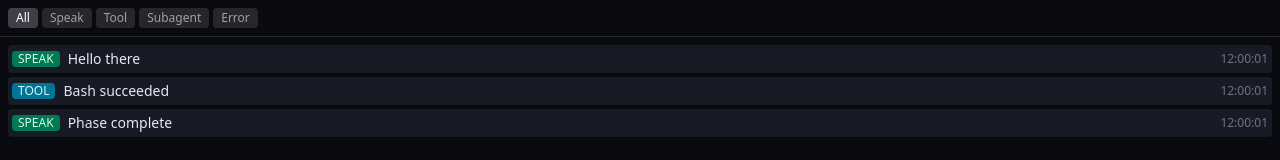
Test case: LiveTicker › filters to only speak events
This screenshot has width=1280, height=160.
Click the button "Speak" at (67, 18), box [42,8,92,28]
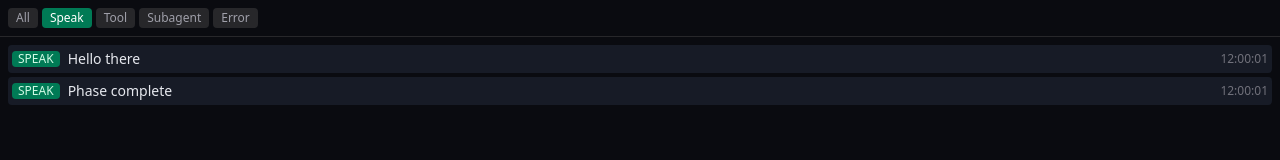
Check: the text "Hello there" is shown, box [68,49,140,68]
Check: the text "Bash succeeded" is gone
